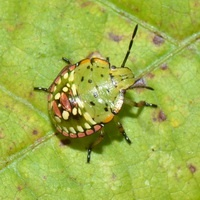insect: (0, 19, 199, 199), (126, 26, 172, 73)
